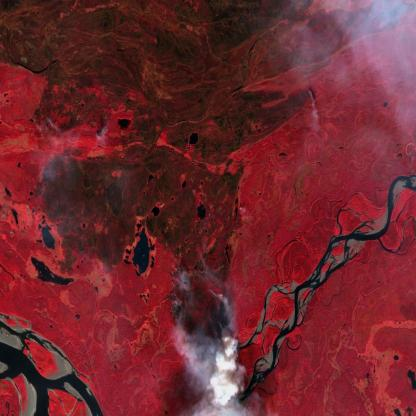fire: (165, 254, 243, 400), (27, 107, 57, 149), (302, 80, 324, 111), (93, 117, 110, 148)
